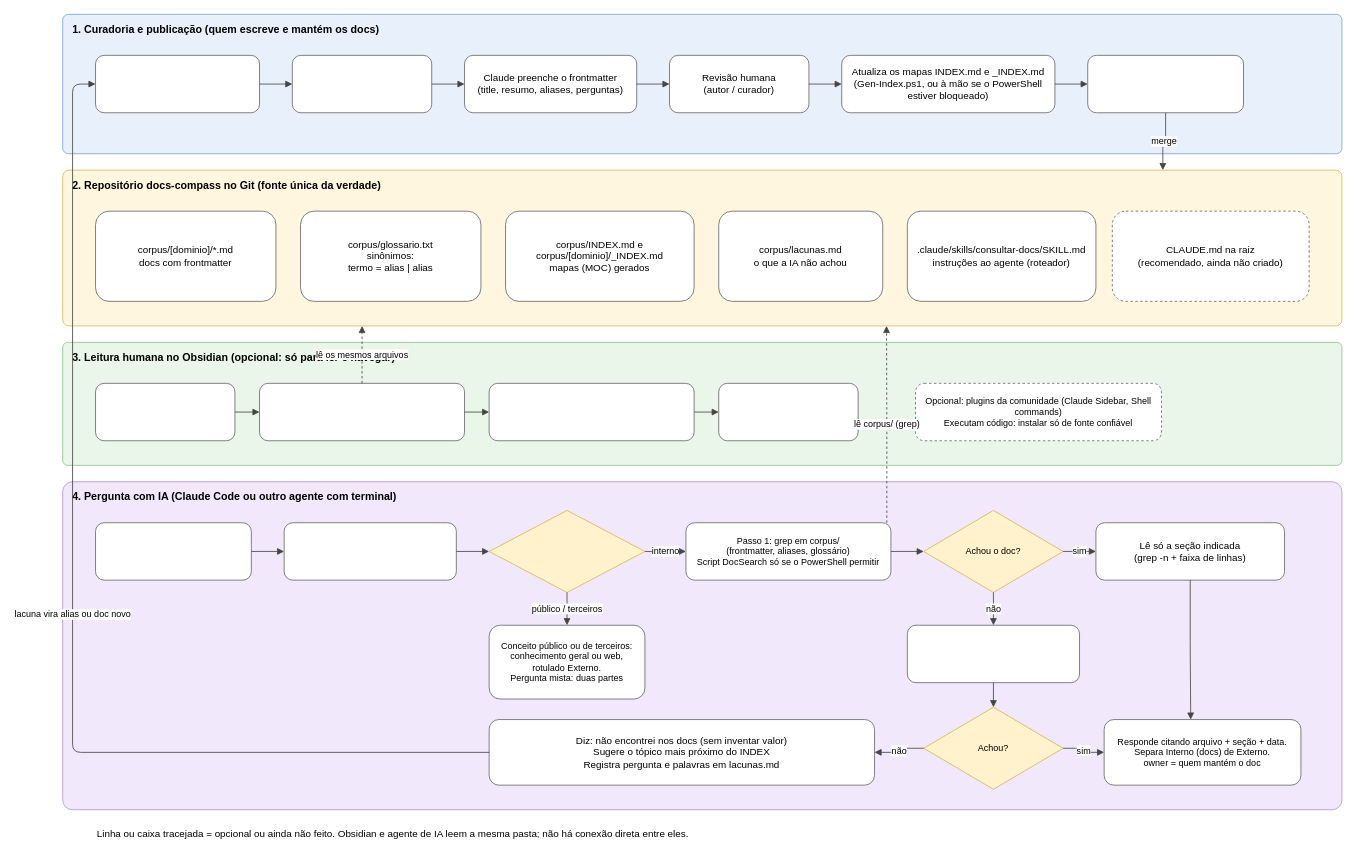
This 1356x861 diagram has some shape labels left out. The shapes that lost their labels are listed below. From the top down, each one's centre as x and y in pixels, then its label:
pixel 177 84: Curador trata as lacunas (semanal): lê lacunas.md
pixel 362 84: Doc novo, corrigido ou alias novo
pixel 1165 84: Pull request + revisão e merge no Git
pixel 165 412: git clone / git pull
pixel 362 412: Obsidian: Abrir pasta como cofre e escolher corpus/
pixel 591 412: INDEX.md > _INDEX.md > doc (links [[ ]] funcionam)
pixel 788 412: Ctrl+G: grafo
pixel 173 551: Pessoa pergunta (ex.: erro 429, com quem falar?)
pixel 369 551: Claude Code aberto na raiz do repo (skill dispara pela descrição)
pixel 566 551: Fato interno da empresa?
pixel 993 653: Passo 3: mapas INDEX.md > _INDEX.md > doc
